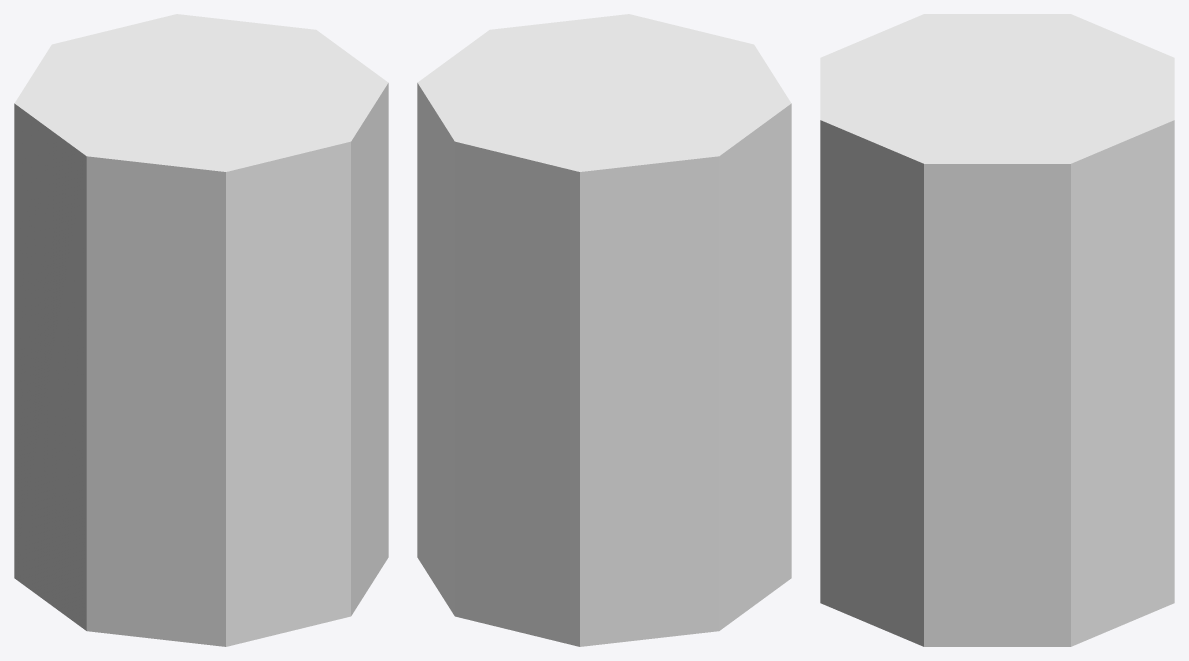
File: FakeWalls.fbx
3 renders of one model, left to right at view 1: azimuth 30°, elevation 25°; view 2: azimuth 150°, elevation 25°; view 3: azimuth 270°, elevation 25°, orthographic.
Visible parts, largest first — view 1: pCylinder1; view 2: pCylinder1; view 3: pCylinder1.
Part boxes in pixels (bbox=[...]): pCylinder1: bbox=[14, 14, 388, 646]; pCylinder1: bbox=[417, 14, 791, 646]; pCylinder1: bbox=[820, 14, 1174, 646].
Bounding box in the file's own units: 2 × 3 × 2.
Materials: 1 (1 with a texture image).
